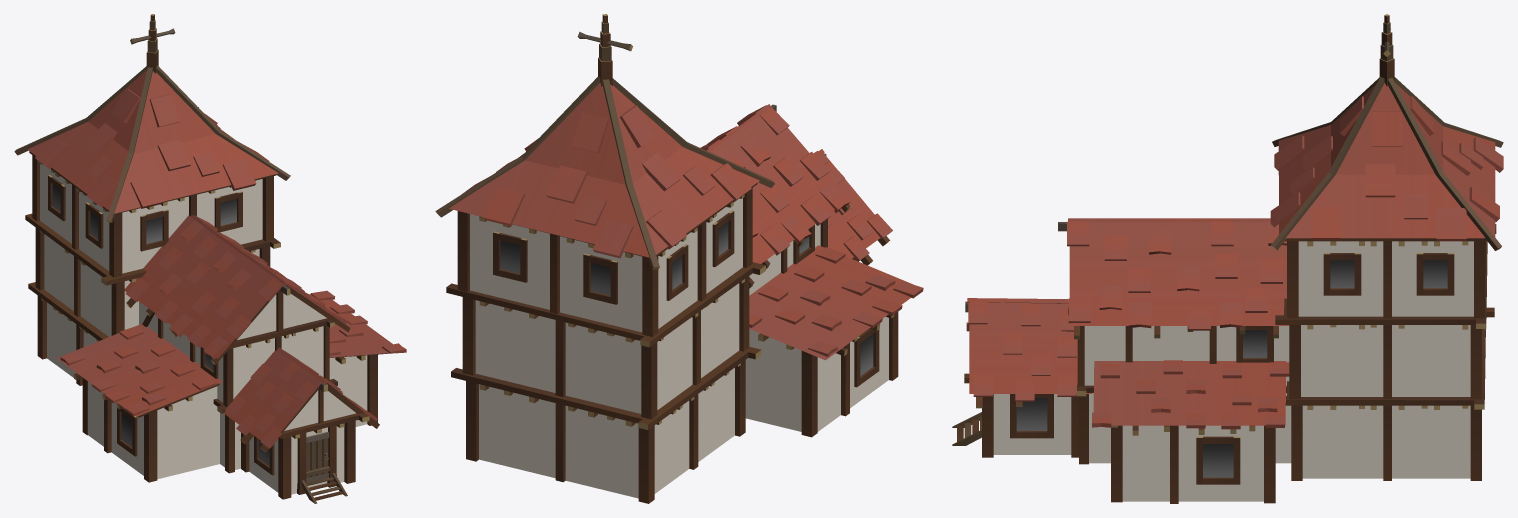
Rendered from House_18.fbx.
The picture shows the model from 3 angles, left to right: view 1: azimuth 30°, elevation 25°; view 2: azimuth 150°, elevation 25°; view 3: azimuth 270°, elevation 25°; orthographic projection. The views are drawn at different scales.
Parts seen in each view (by area): view 1: polySurface9627; view 2: polySurface9627; view 3: polySurface9627.
Boxes of the visible parts, x1,y1,x2,y2 form: polySurface9627: [14, 14, 406, 503]; polySurface9627: [435, 14, 923, 503]; polySurface9627: [952, 14, 1503, 503].
Bounding box in the file's own units: 1280 × 1569 × 1857.
